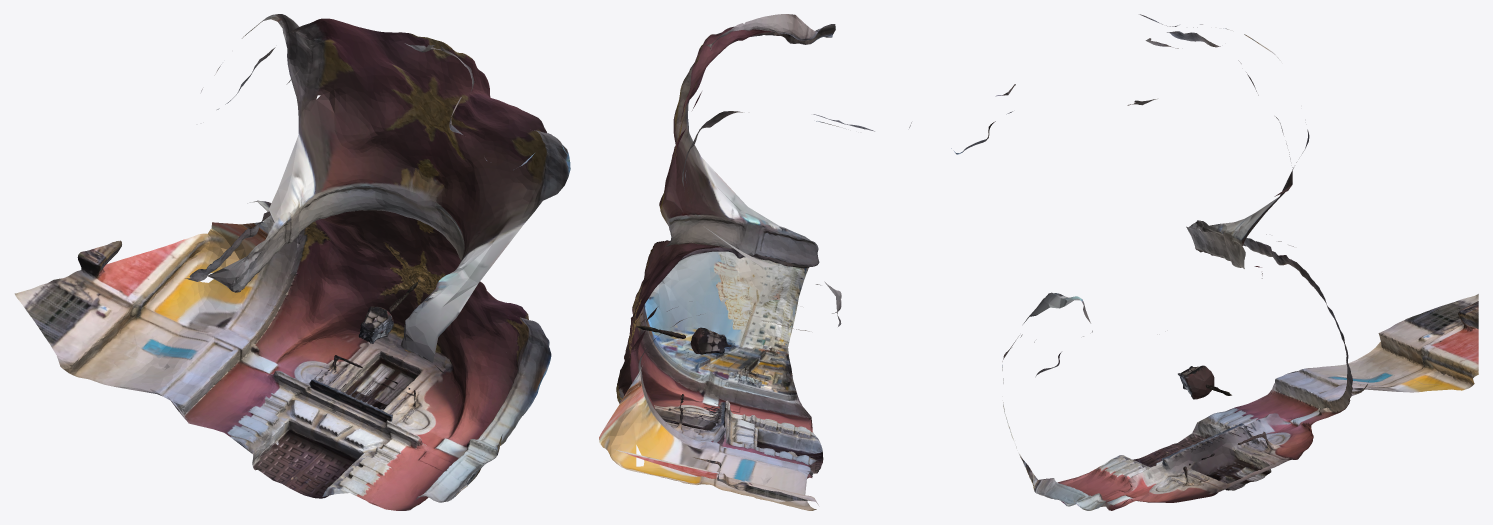
Rendered from 24_3_2026-Farol-Derecho.glb.
3 views of the same model, side by side, from view 1: azimuth 30°, elevation 25°; view 2: azimuth 150°, elevation 25°; view 3: azimuth 270°, elevation 25° (orthographic). The views are drawn at different scales.
Bounding box in the file's own units: 1.83 × 2.17 × 2.5.
Materials: 1 (1 with a texture image).
